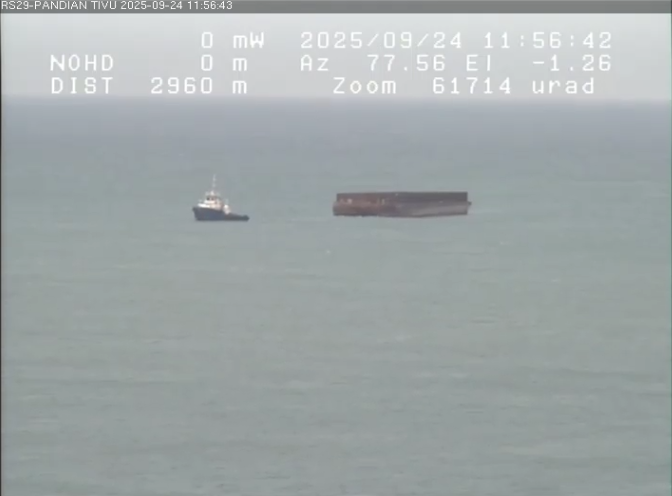BARGE: (317, 180, 495, 224)
OFFSHORE_SUPPLY_VESSEL: (181, 168, 260, 233)
TOWING: (150, 136, 578, 282)
